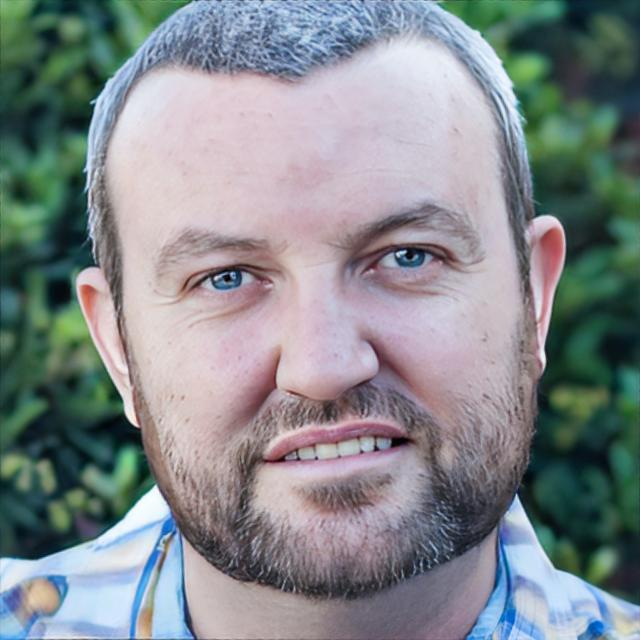content: (102, 39, 524, 598)
